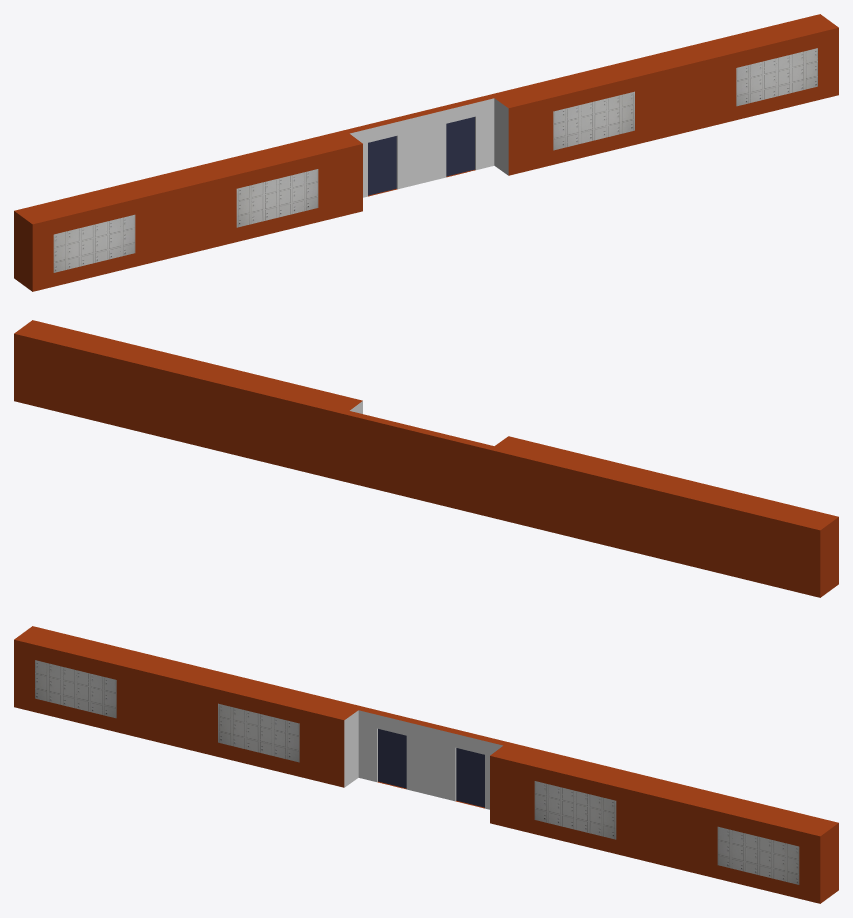
Rendered from paredPasillo (1) 1.fbx.
The picture shows the model from 3 angles, top to bottom: view 1: azimuth 30°, elevation 25°; view 2: azimuth 150°, elevation 25°; view 3: azimuth 330°, elevation 25°; orthographic projection.
Visible parts, largest first — view 1: Cube; view 2: Cube; view 3: Cube.
Part boxes in pixels (x1=…): Cube: x1=14, y1=14, x2=838, y2=291; Cube: x1=14, y1=320, x2=838, y2=597; Cube: x1=14, y1=626, x2=838, y2=903.
Bounding box in the file's own units: 5000 × 400 × 200.
